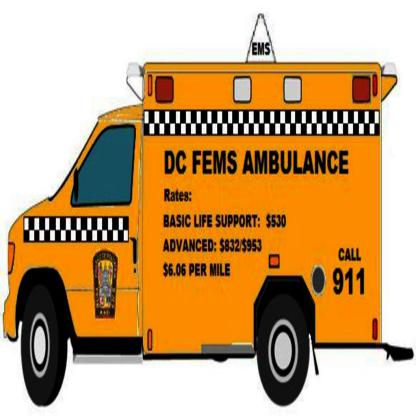Ambulance: (3, 11, 414, 410)
Truck: (0, 49, 399, 408)
